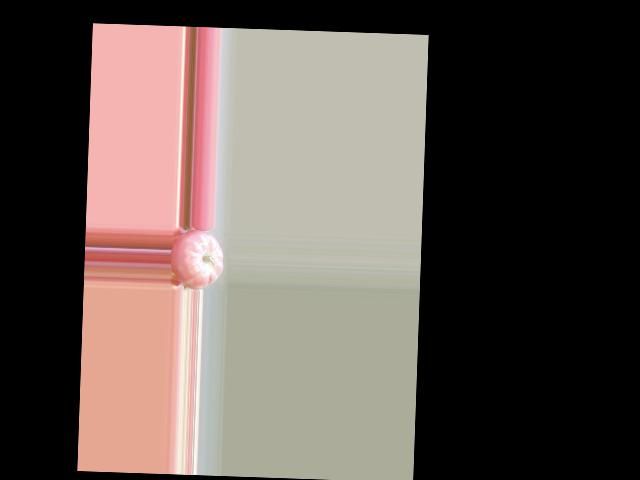tomato: (169, 229, 224, 291)
